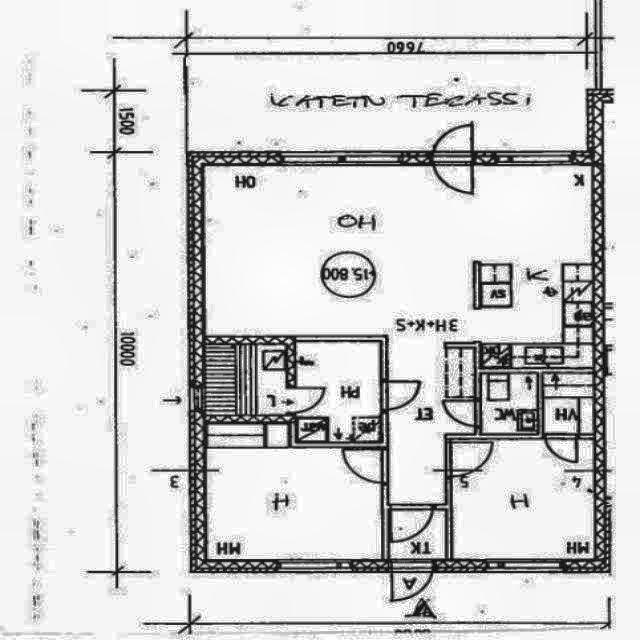room: (207, 424, 381, 559), (453, 440, 594, 558), (297, 343, 379, 440), (206, 345, 286, 414), (482, 373, 538, 433), (545, 374, 592, 433)
